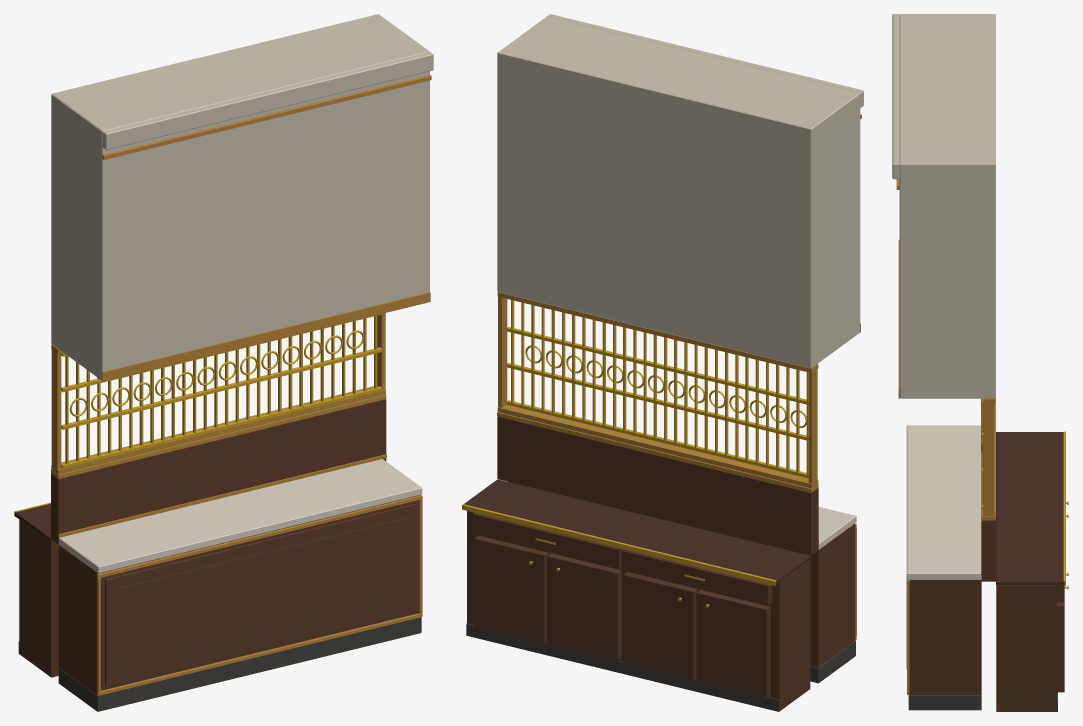
The model's file is prop_of_teller_bay_closed_ende.glb.
3 renders of one model, left to right at view 1: azimuth 30°, elevation 25°; view 2: azimuth 150°, elevation 25°; view 3: azimuth 270°, elevation 25°, orthographic. The views are drawn at different scales.
Parts seen in each view (by area): view 1: Counter; view 2: Counter; view 3: Counter.
Part boxes in pixels (<box>): Counter: <box>14,14,433,711</box>; Counter: <box>462,14,863,711</box>; Counter: <box>892,14,1068,711</box>.
Bounding box in the file's own units: 2.47 × 4.2 × 1.22.
